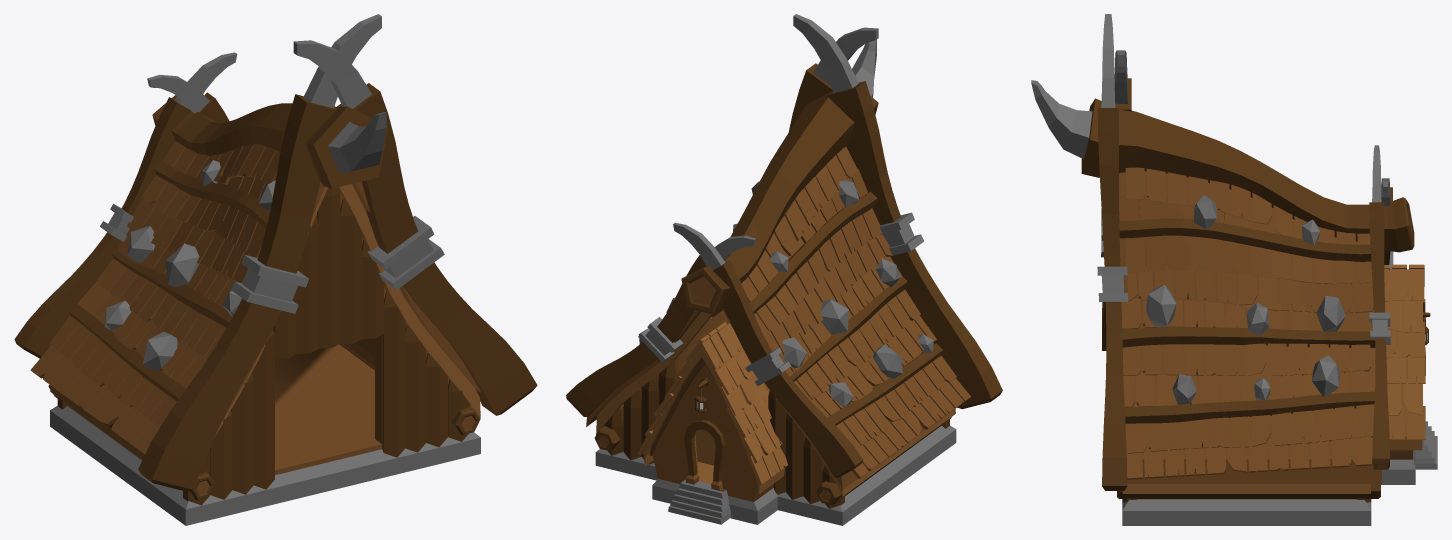
The model's file is B_Barn.fbx.
The picture shows the model from 3 angles, left to right: view 1: azimuth 30°, elevation 25°; view 2: azimuth 150°, elevation 25°; view 3: azimuth 270°, elevation 25°; orthographic projection. The views are drawn at different scales.
Parts seen in each view (by area): view 1: B_Barn; view 2: B_Barn; view 3: B_Barn.
Part boxes in pixels (box(x1,y1,x2,y2)): B_Barn: box(14, 14, 537, 525); B_Barn: box(566, 14, 1002, 525); B_Barn: box(1031, 14, 1437, 525).
Size of the model in its own units: 922 by 1060 by 918.
